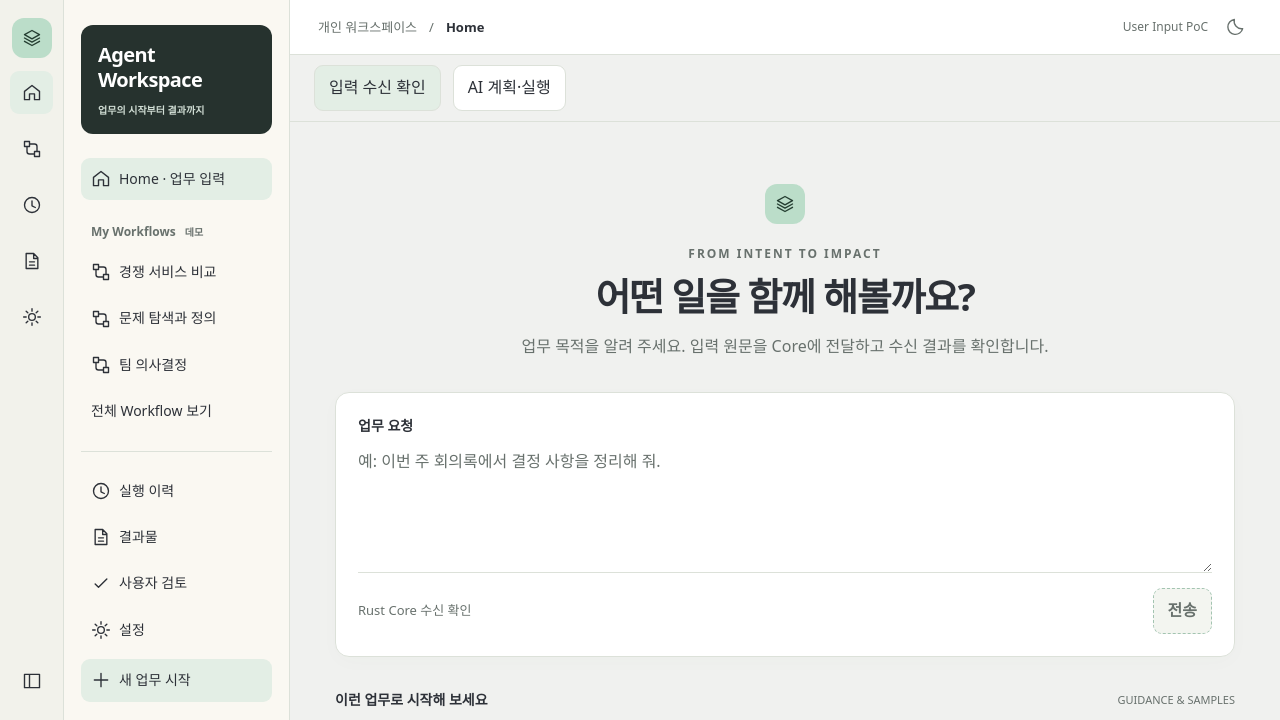
Scenario: UI-15 실제 요청과 데모 탐색 구분
The image size is (1280, 720).
Click the button named "Workflows" at (32, 148), box [10,127,53,170]
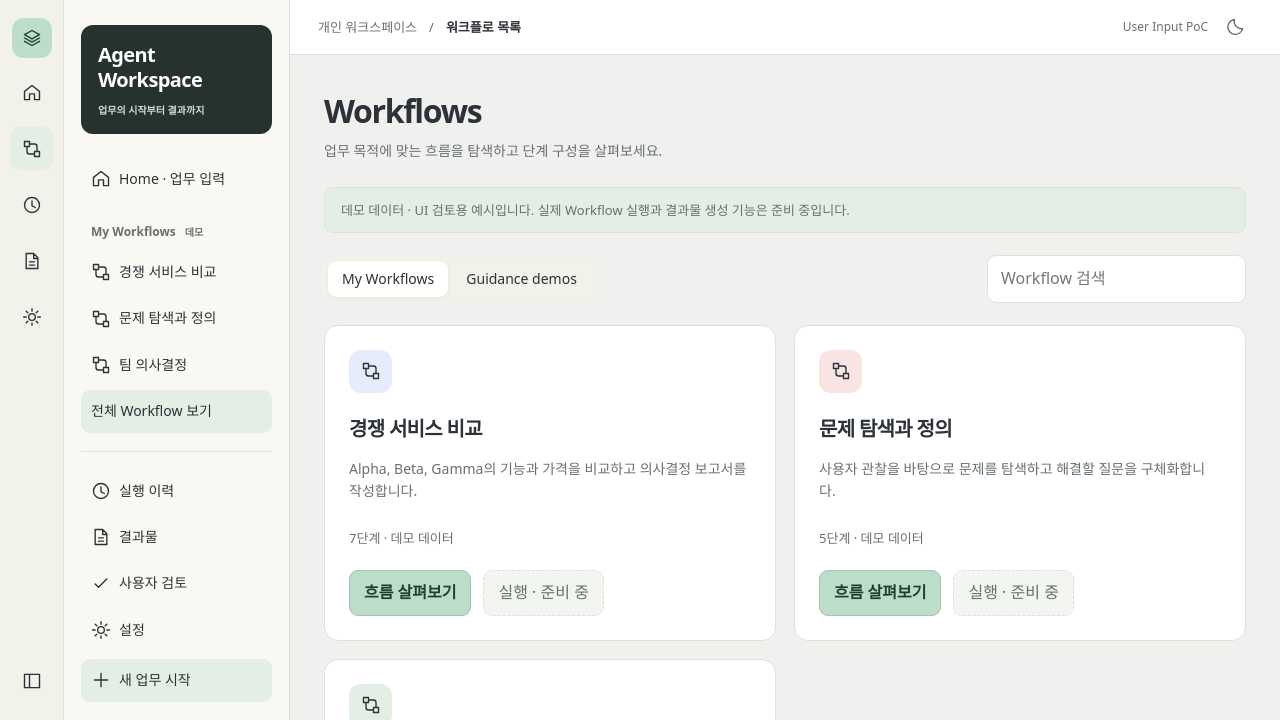
Check: the text "데모 데이터 · UI 검토용 예시입니다. 실제 Workflow 실행과 결과물 생성 기능은 준비 중입니다." is shown, box [324,187,1246,233]
Check: the 1st button "실행 · 준비 중" is disabled, box [484,570,604,616]
Click the button named "설정" at (32, 316), box [10,295,53,338]
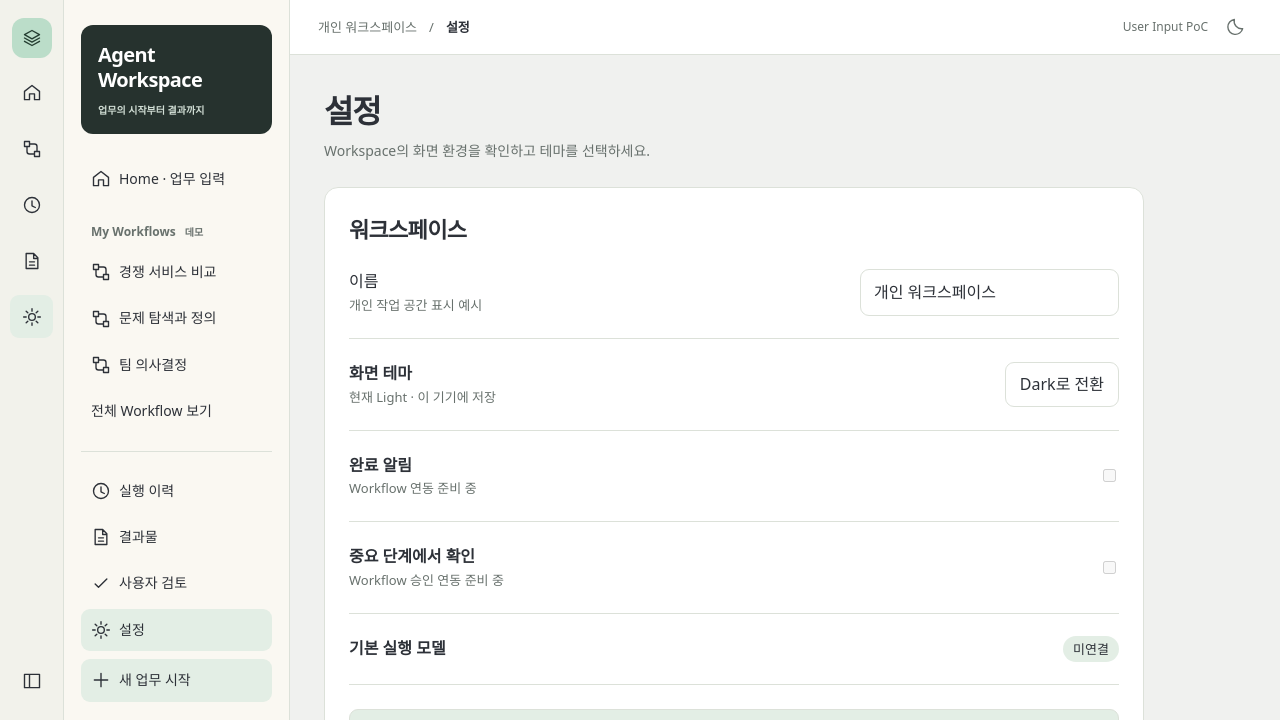
Check: the checkbox named "완료 알림" is disabled, box [1103,469,1116,482]
